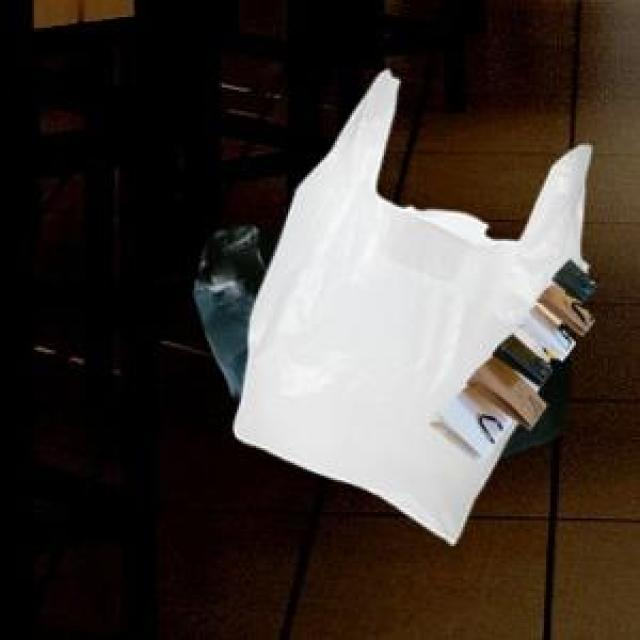miscellaneous trash: (190, 220, 568, 454)
paper: (425, 256, 593, 459)
